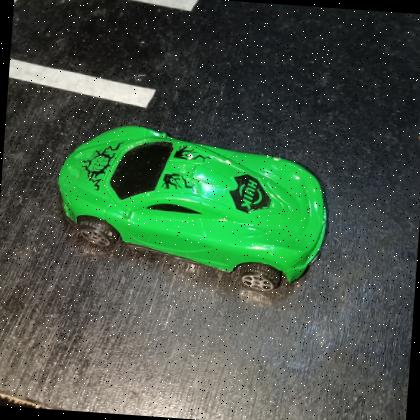Car: (49, 119, 336, 295)
